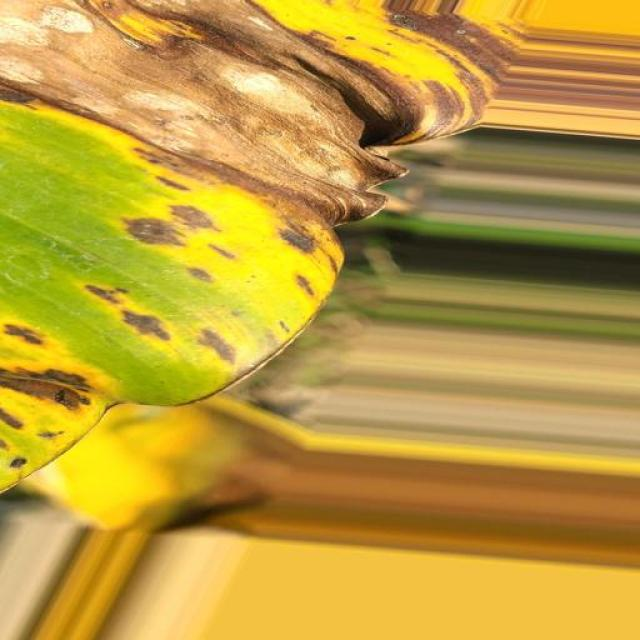Early_rust: (0, 0, 514, 568)
